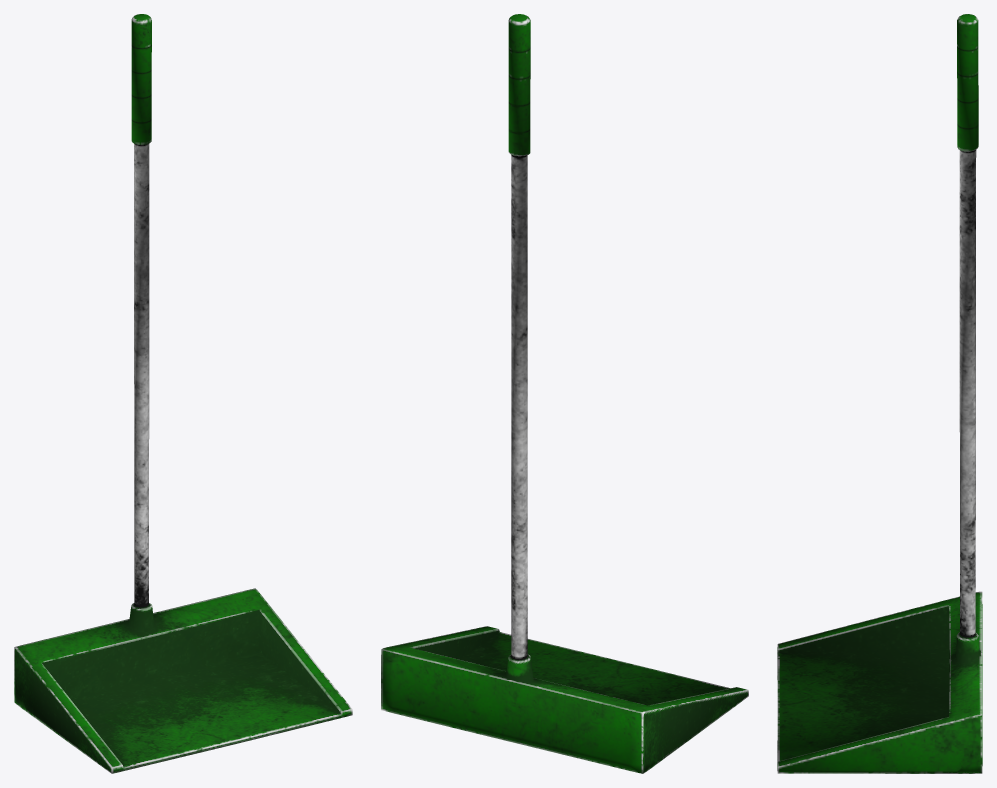
File: Dustpan3.fbx
3 renders of one model, left to right at view 1: azimuth 30°, elevation 25°; view 2: azimuth 150°, elevation 25°; view 3: azimuth 270°, elevation 25°, orthographic. The views are drawn at different scales.
Visible parts, largest first — view 1: R_Dustpan.002; view 2: R_Dustpan.002; view 3: R_Dustpan.002.
Part boxes in pixels (<box>): R_Dustpan.002: <box>14,14,352,773</box>; R_Dustpan.002: <box>381,14,748,773</box>; R_Dustpan.002: <box>777,14,982,773</box>.
Bounding box in the file's own units: 60.53 × 159 × 42.48.
1 material, 1 textured.
